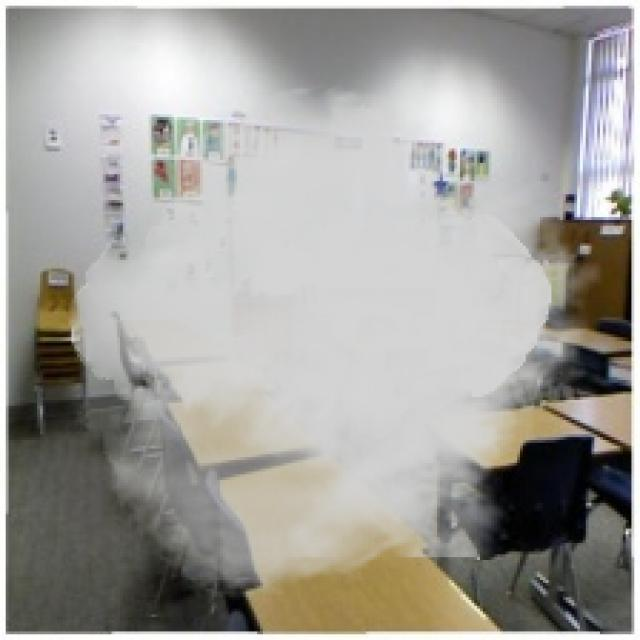Smoke: (69, 80, 606, 603)
